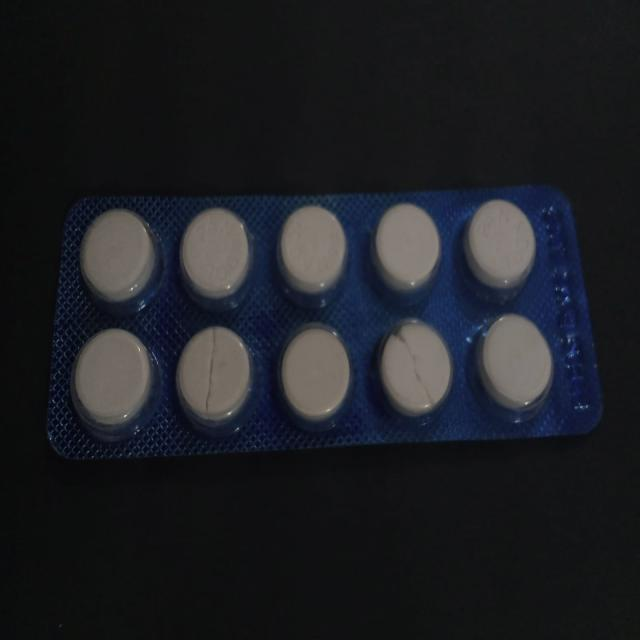defect: (170, 318, 262, 442), (371, 312, 458, 431)
